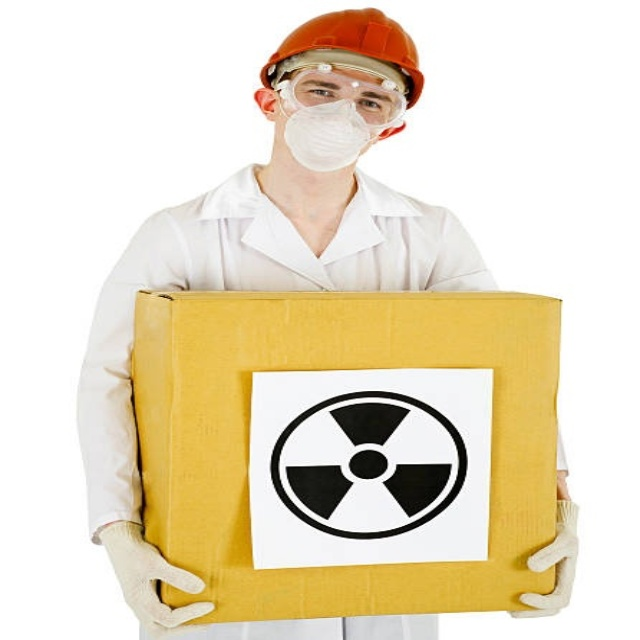Gafas: (274, 67, 409, 132)
Guantes: (98, 519, 215, 637), (511, 498, 579, 619)
Mascara: (281, 99, 377, 174)
